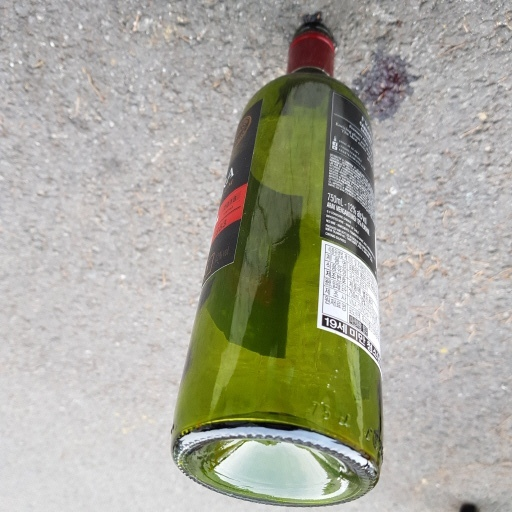Glass_2: (172, 18, 388, 509)
